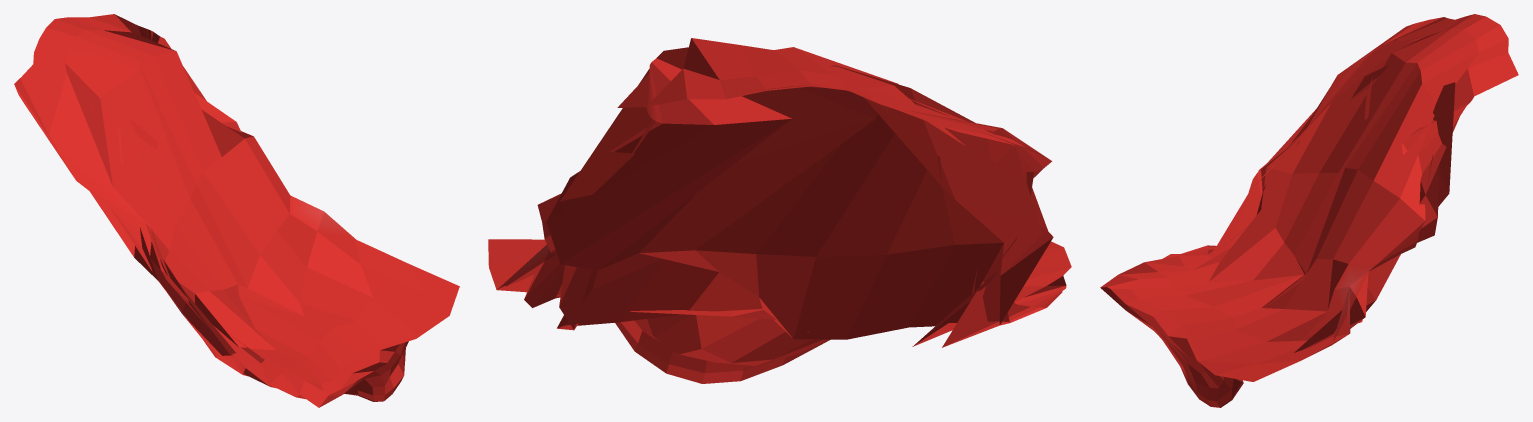
The model's file is Petal1_2.glb.
3 views of the same model, side by side, from view 1: azimuth 30°, elevation 25°; view 2: azimuth 150°, elevation 25°; view 3: azimuth 270°, elevation 25° (orthographic). The views are drawn at different scales.
Visible parts, largest first — view 1: Cube.008; view 2: Cube.008; view 3: Cube.008.
Part boxes in pixels (bbox=[...]): Cube.008: bbox=[14, 14, 459, 407]; Cube.008: bbox=[488, 38, 1071, 383]; Cube.008: bbox=[1100, 14, 1518, 407].
Size of the model in its own units: 25.54 by 21.64 by 27.7.
